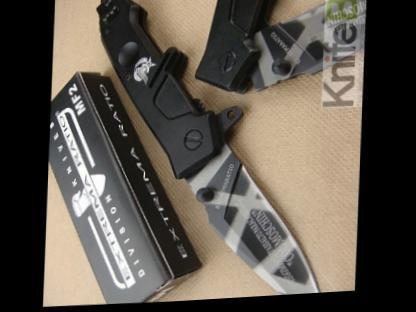knife: (178, 134, 341, 302)
